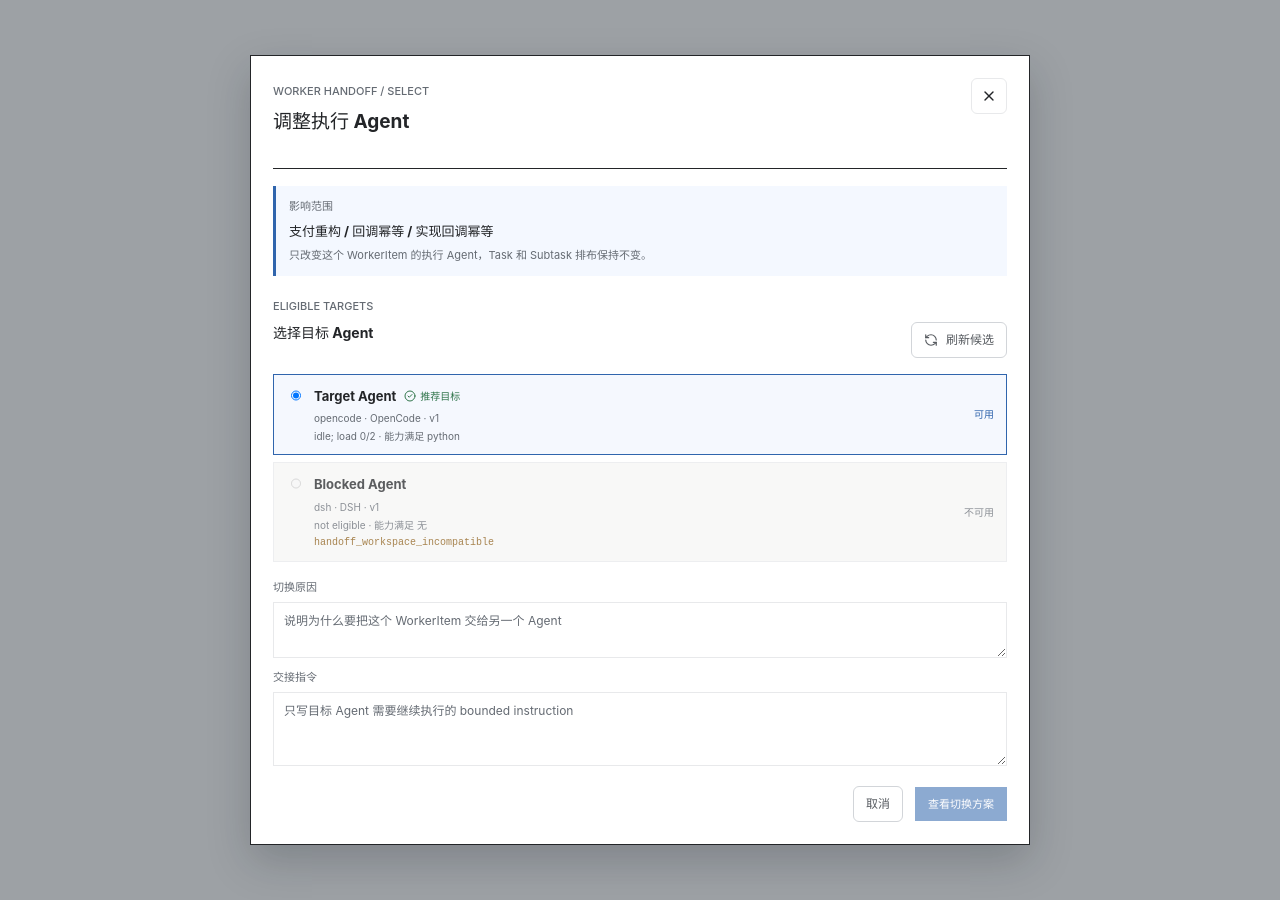
Test: HandoffDialog › refuses legacy actions when the fetched proposal is native
Type "Move to another Profile" into the text box labelled "切换原因" at {"x": 640, "y": 630}, box [273,602,1007,658]
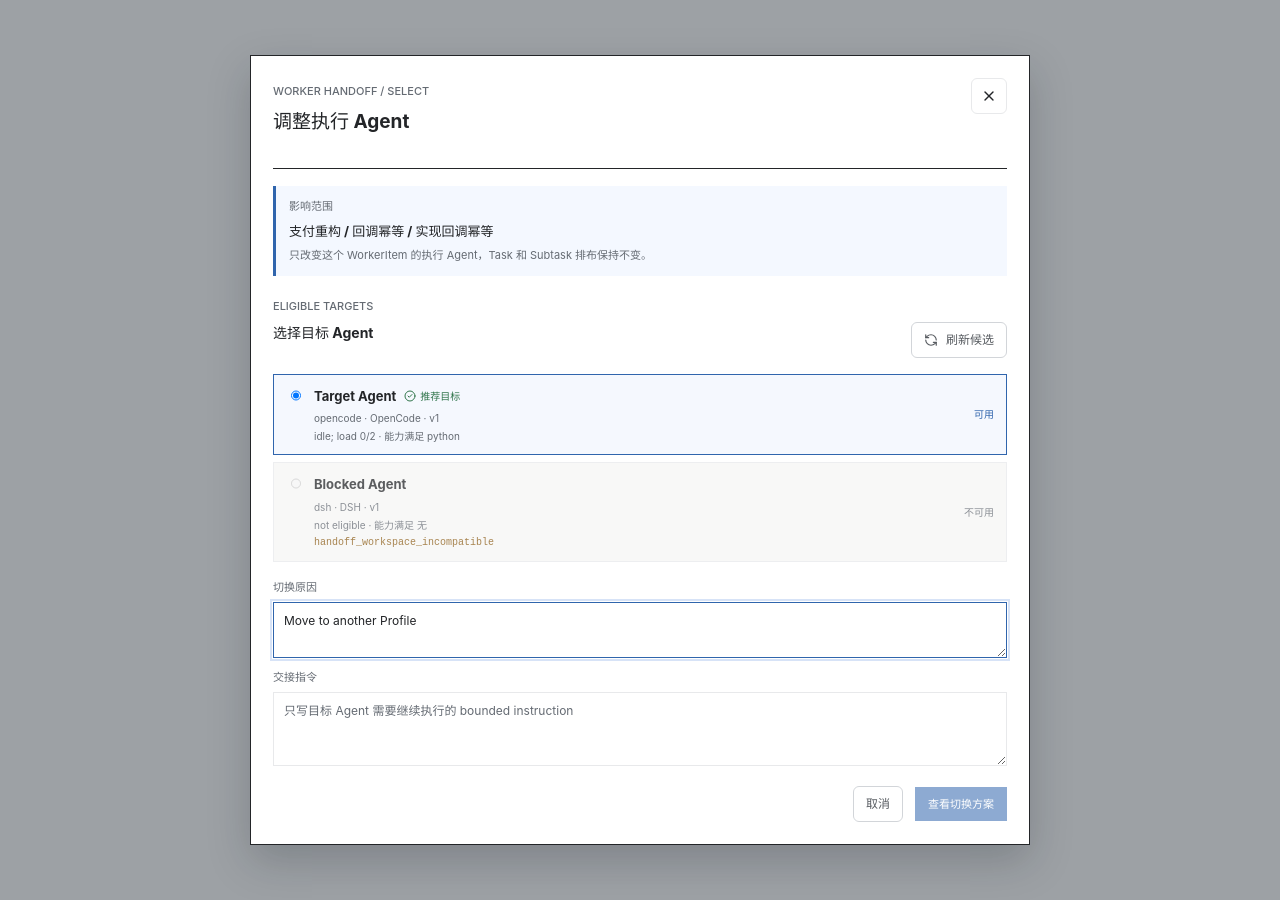
Type "Continue the current validation" into the text box labelled "交接指令" at {"x": 640, "y": 729}, box [273,692,1007,766]
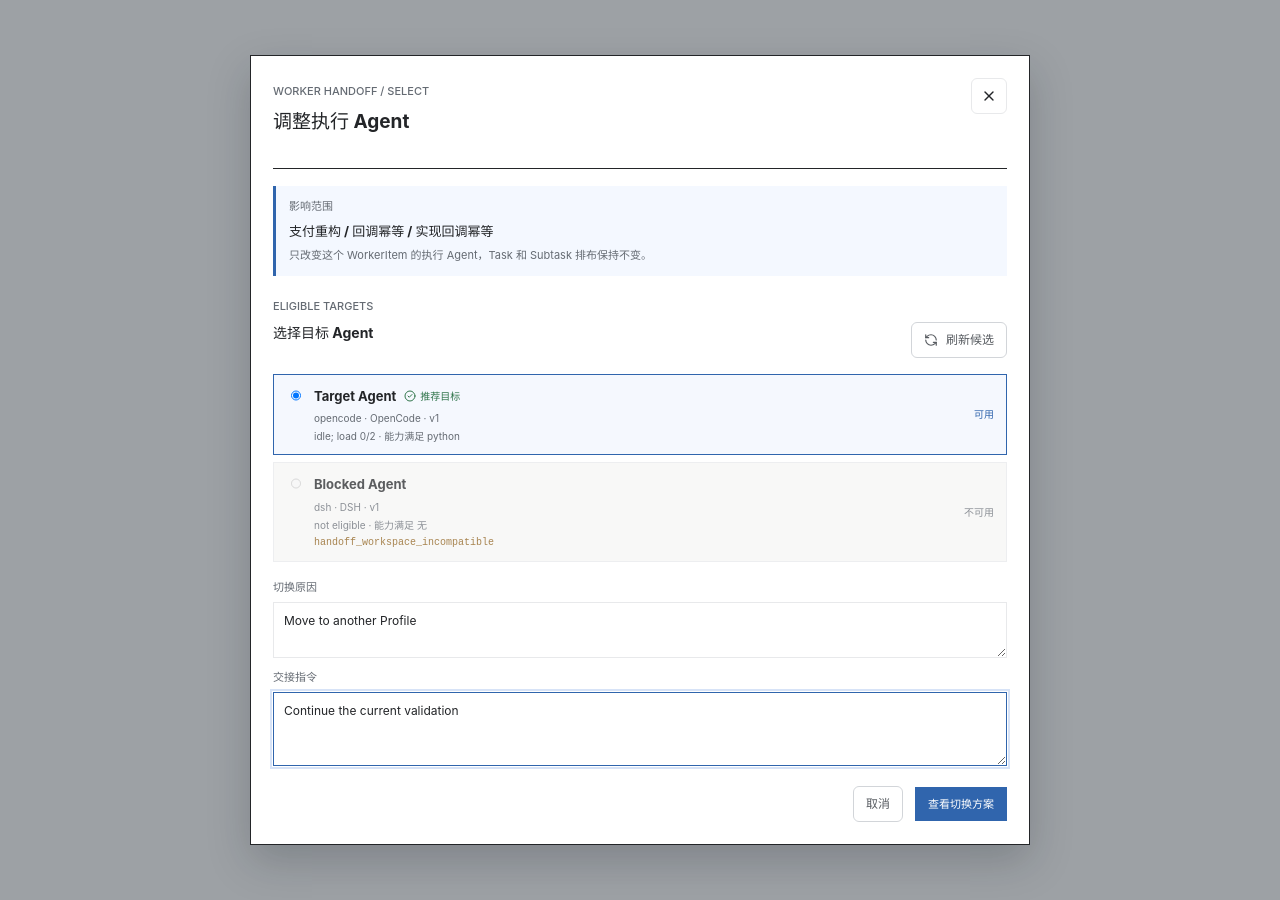
Click the button "查看切换方案" at {"x": 961, "y": 804}, box [915,787,1007,821]
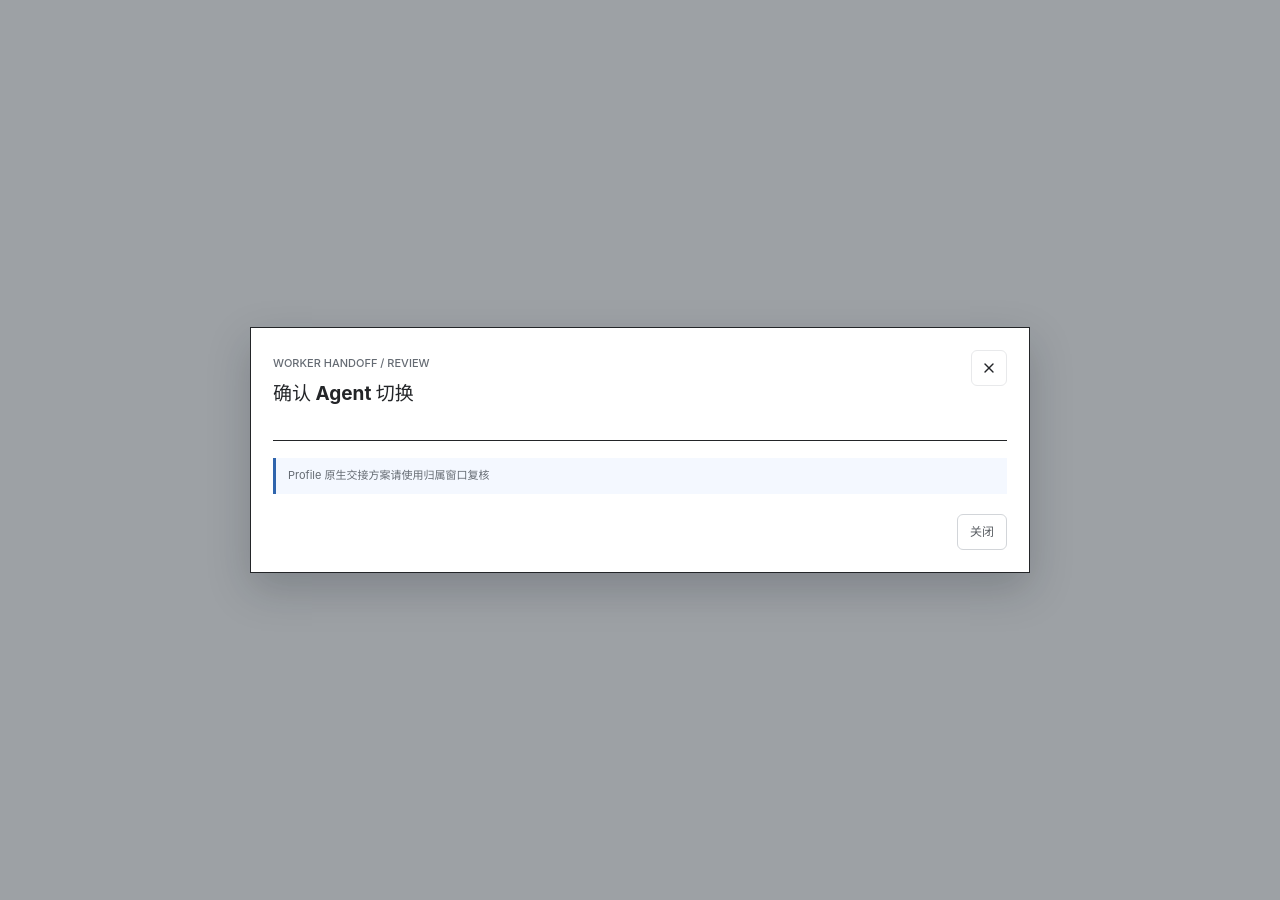
Check: the text "Profile 原生交接方案请使用归属窗口复核" is shown, box [273,458,1007,494]
